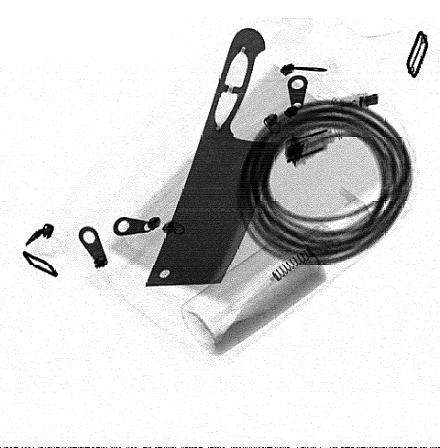Knife: (144, 26, 280, 287)
